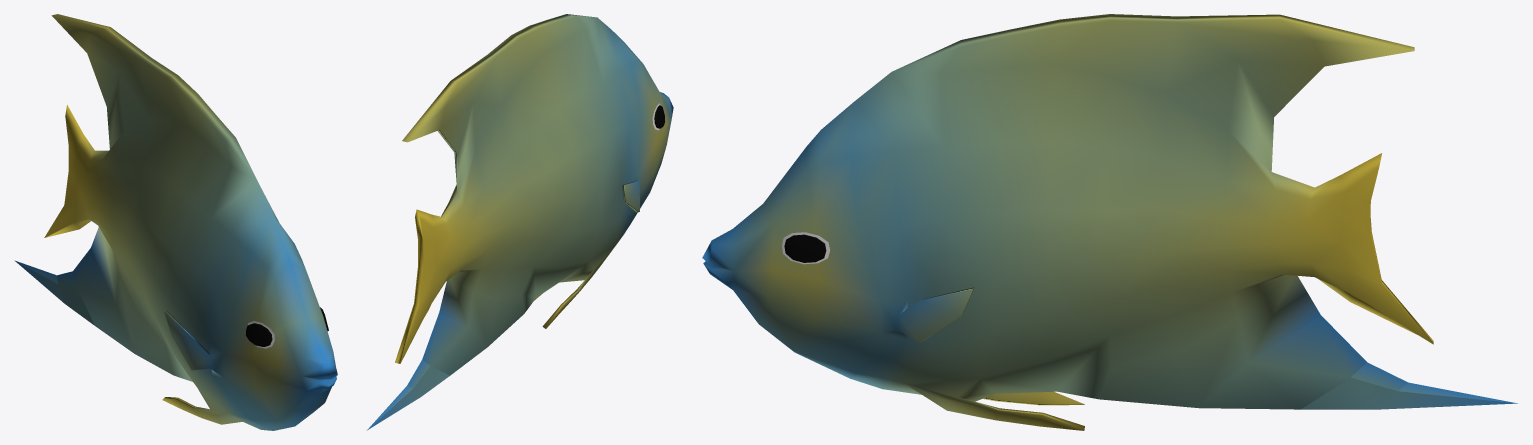
File: underwater-fish-angelfish_v7.fbx
3 renders of one model, left to right at view 1: azimuth 30°, elevation 25°; view 2: azimuth 150°, elevation 25°; view 3: azimuth 270°, elevation 25°, orthographic. The views are drawn at different scales.
Visible parts, largest first — view 1: Angelfish_v7; view 2: Angelfish_v7; view 3: Angelfish_v7.
Boxes of the visible parts, x1=… form: Angelfish_v7: x1=14, y1=14, x2=337, y2=430; Angelfish_v7: x1=366, y1=14, x2=673, y2=430; Angelfish_v7: x1=702, y1=14, x2=1517, y2=430.
Size of the model in its own units: 0.0902 by 0.2167 by 0.4.
